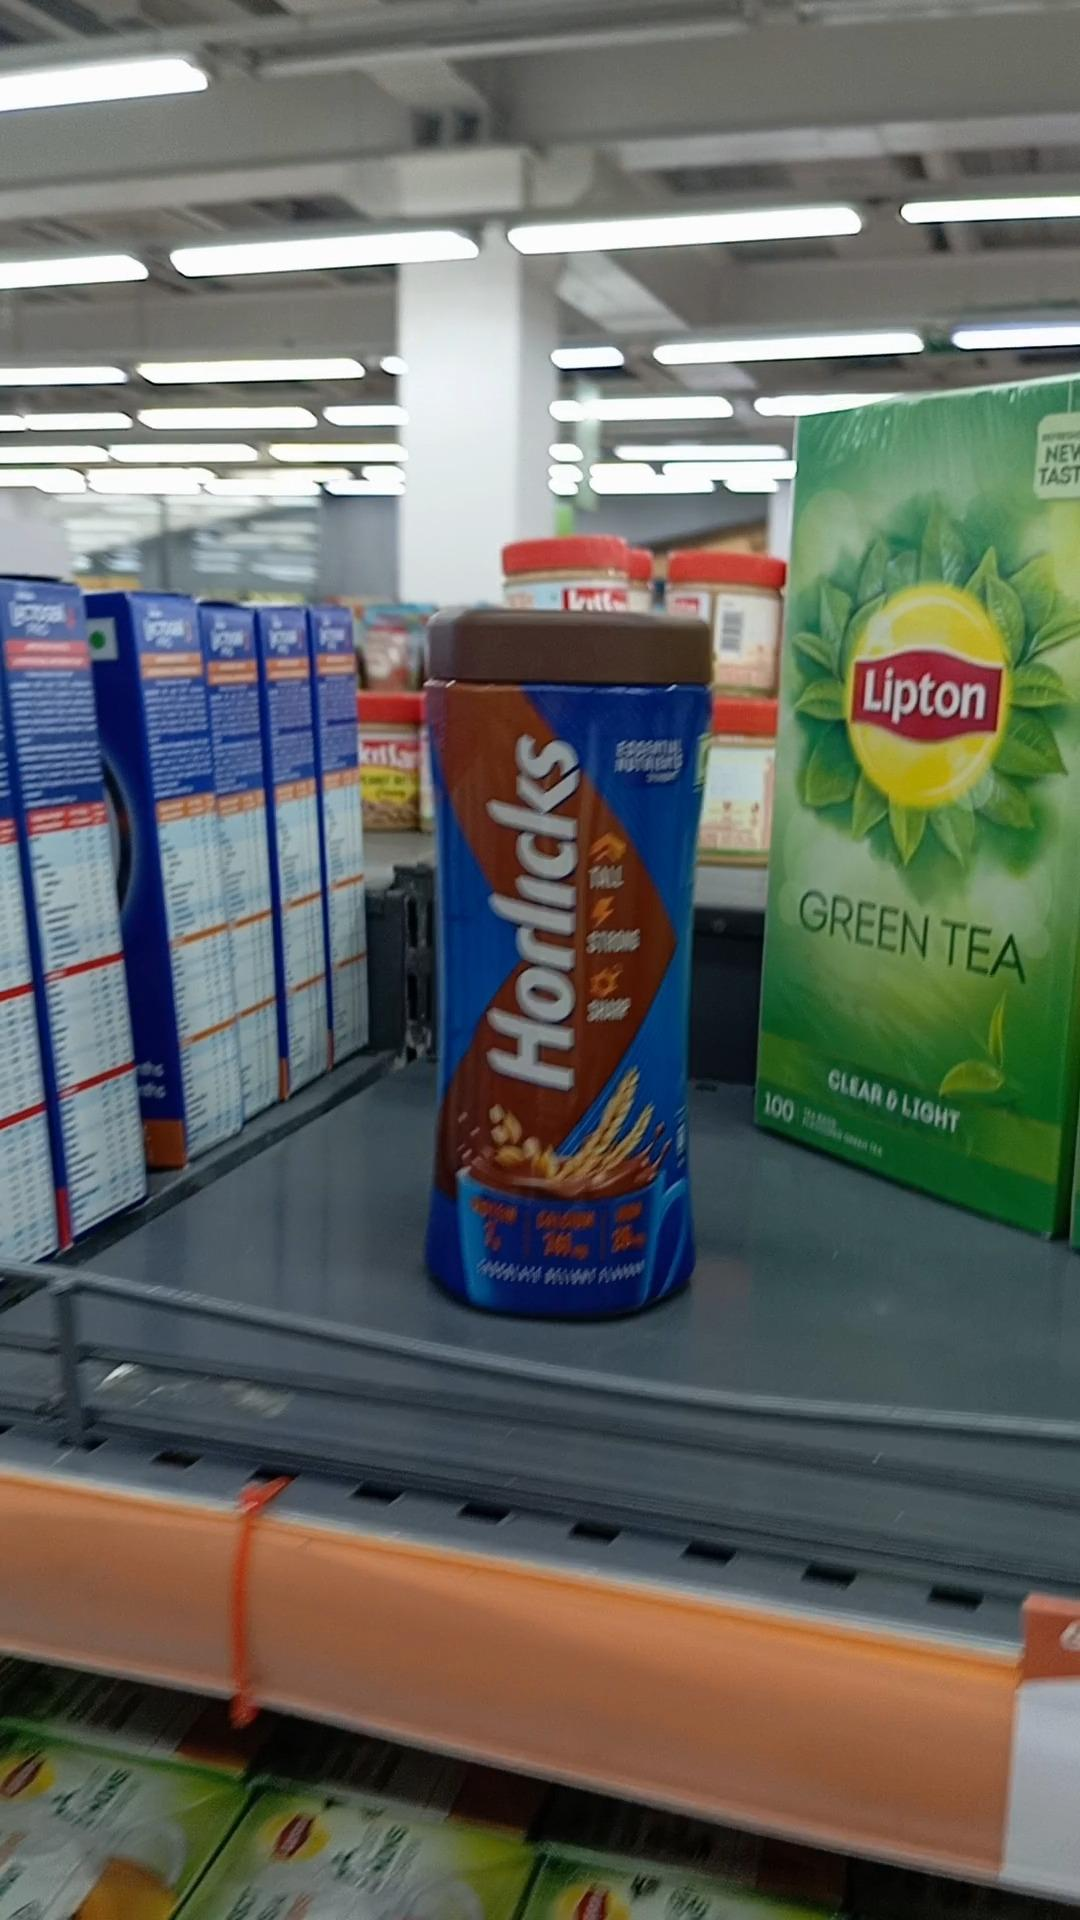HORLICK_CHOCOLATE_500_G_JAR: (427, 576, 688, 1311)
